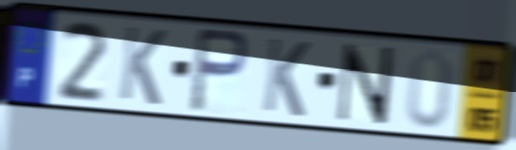0: (403, 46, 456, 133)
2: (58, 18, 110, 102)
K: (259, 34, 313, 121), (116, 22, 169, 109)
N: (334, 41, 398, 128)
P: (187, 25, 252, 116)
